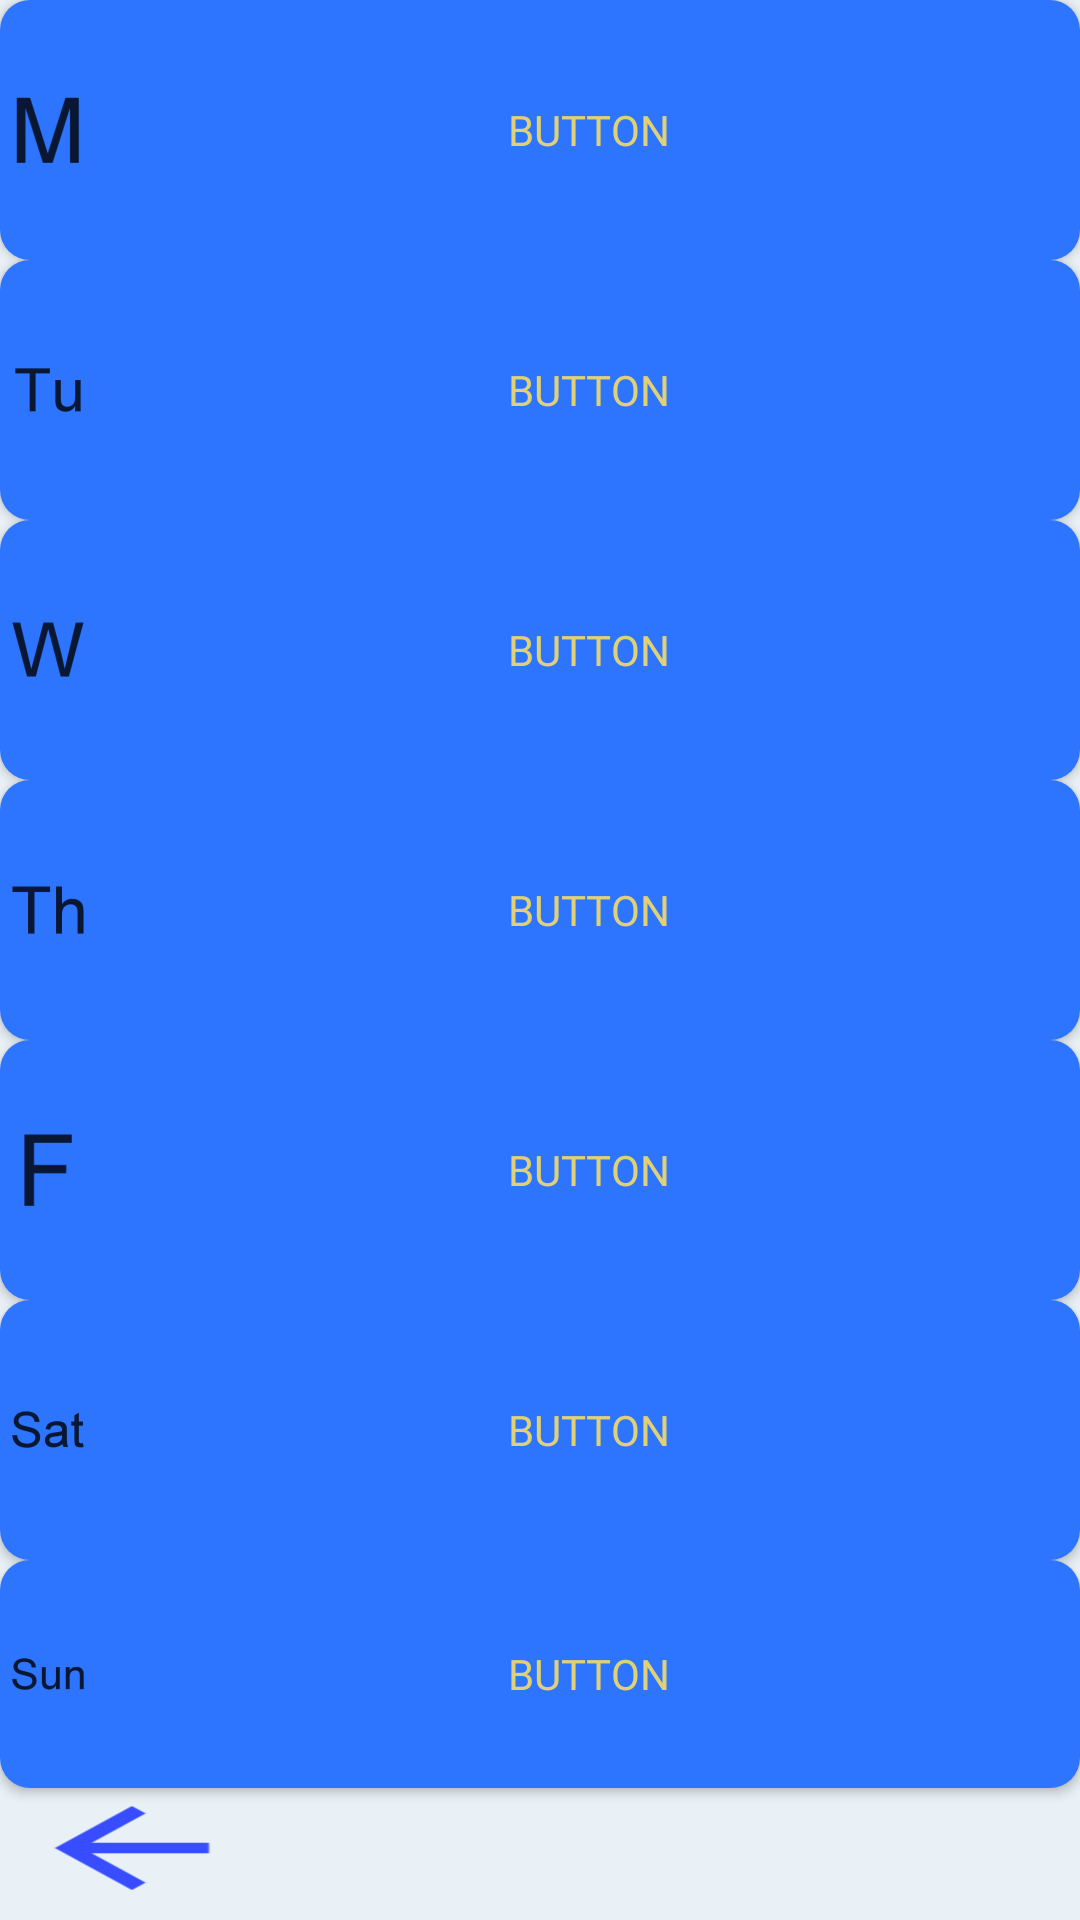

Screen size 1080w x 1920h. Icon name, then its box in pixels as BBox(x1, y1, x2, y2):
back: BBox(0, 1776, 264, 1920)
